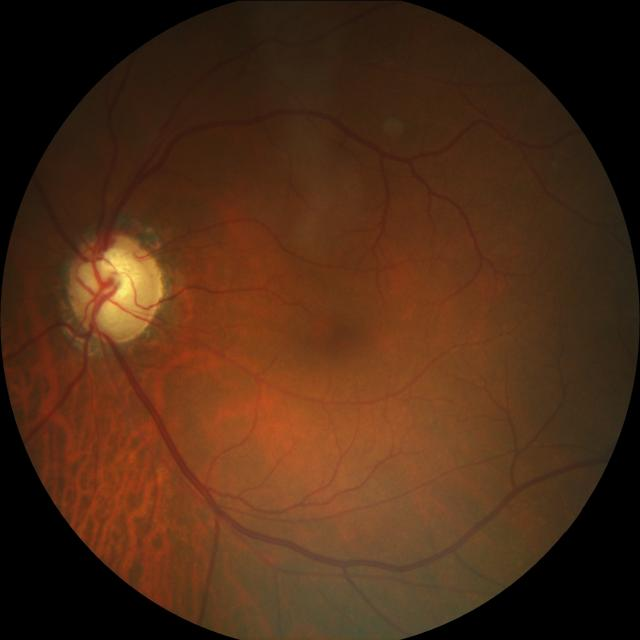OC: (64, 233, 162, 340)
OD: (74, 246, 155, 329)
